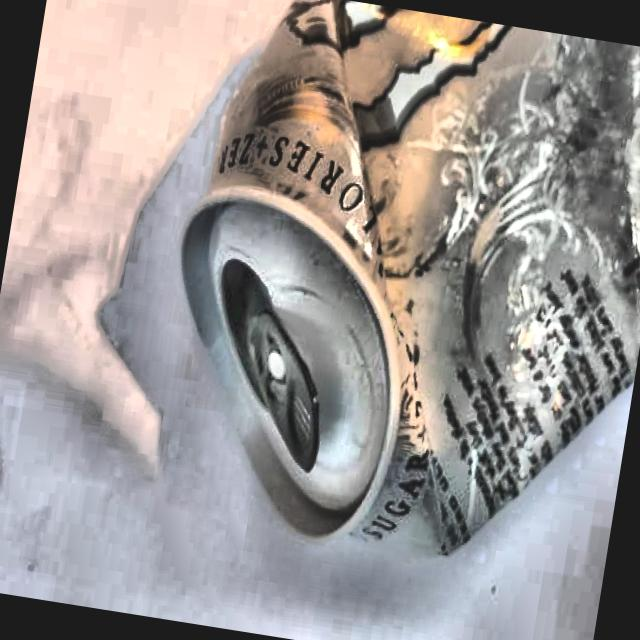metal: (135, 0, 640, 593)
